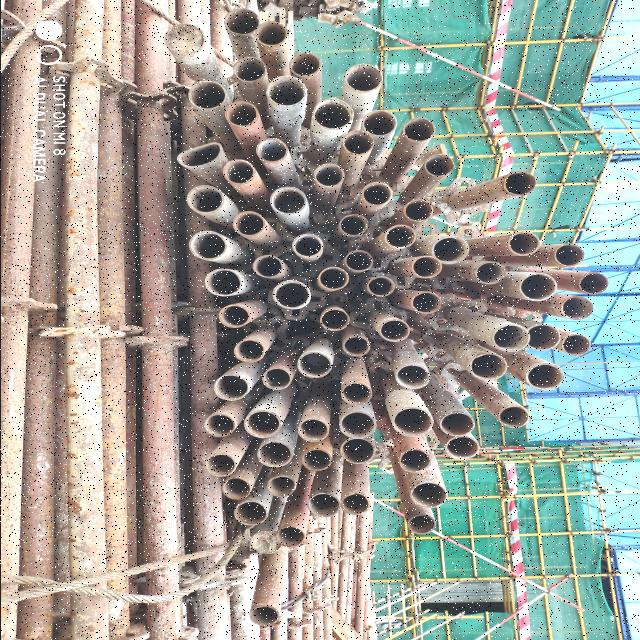pipe: (389, 406, 434, 438), (174, 140, 222, 170), (164, 23, 206, 57), (264, 75, 308, 107), (523, 360, 565, 392), (312, 98, 354, 130), (489, 322, 531, 353), (202, 266, 242, 298), (342, 63, 384, 93), (184, 184, 226, 214), (430, 234, 470, 265), (517, 272, 558, 302), (468, 352, 508, 382), (268, 185, 308, 215), (270, 280, 310, 310), (186, 230, 226, 260), (222, 6, 260, 36), (408, 481, 448, 509), (188, 80, 225, 110), (338, 410, 376, 439), (438, 410, 476, 438), (360, 108, 398, 136), (338, 437, 376, 465), (295, 351, 333, 379), (223, 100, 260, 128), (524, 323, 560, 351), (231, 209, 267, 237), (243, 411, 280, 438), (253, 20, 288, 48), (212, 374, 248, 401), (255, 442, 292, 468), (502, 170, 536, 198), (401, 116, 435, 144), (232, 56, 266, 84), (382, 223, 417, 250), (506, 230, 542, 256), (394, 364, 430, 390), (396, 448, 432, 474), (306, 491, 340, 518), (221, 158, 255, 185), (444, 434, 479, 460), (360, 180, 393, 207), (552, 242, 586, 268), (422, 152, 456, 178), (340, 130, 374, 156), (288, 52, 322, 78), (216, 303, 250, 329), (248, 530, 282, 556), (410, 253, 442, 280), (560, 296, 594, 321), (290, 233, 324, 258), (232, 501, 266, 526), (376, 318, 411, 342), (339, 382, 374, 406), (474, 260, 506, 286), (255, 137, 287, 163), (496, 405, 530, 429), (250, 254, 284, 278), (232, 338, 266, 362), (560, 332, 592, 357), (402, 198, 434, 223), (296, 418, 328, 443), (409, 290, 442, 314), (316, 266, 349, 290), (202, 414, 235, 438), (204, 453, 237, 477), (313, 163, 345, 187), (300, 448, 332, 472), (340, 491, 370, 516), (220, 476, 250, 501), (319, 308, 350, 332), (343, 248, 373, 272), (248, 604, 280, 626), (578, 270, 607, 294), (339, 213, 369, 236), (275, 525, 305, 548), (406, 513, 436, 535), (366, 276, 396, 298), (341, 334, 371, 356), (261, 368, 291, 390), (266, 476, 296, 498)
